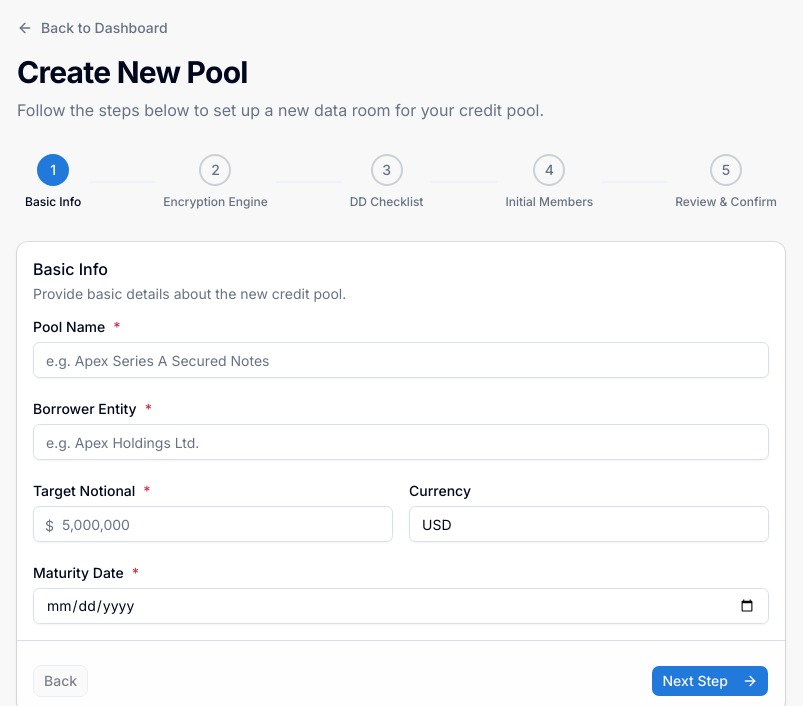
it: NewPoolPage › shows Confirm & Submit on last step
Type "Test" into the field labelled "Pool Name *". click: [401, 360]
box: [33,342,769,378]
Type "Corp" into the field labelled "Borrower Entity *". click: [401, 442]
box: [33,424,769,460]
Type "100" into the number field labelled "Target Notional *". click: [213, 524]
box: [33,506,393,542]
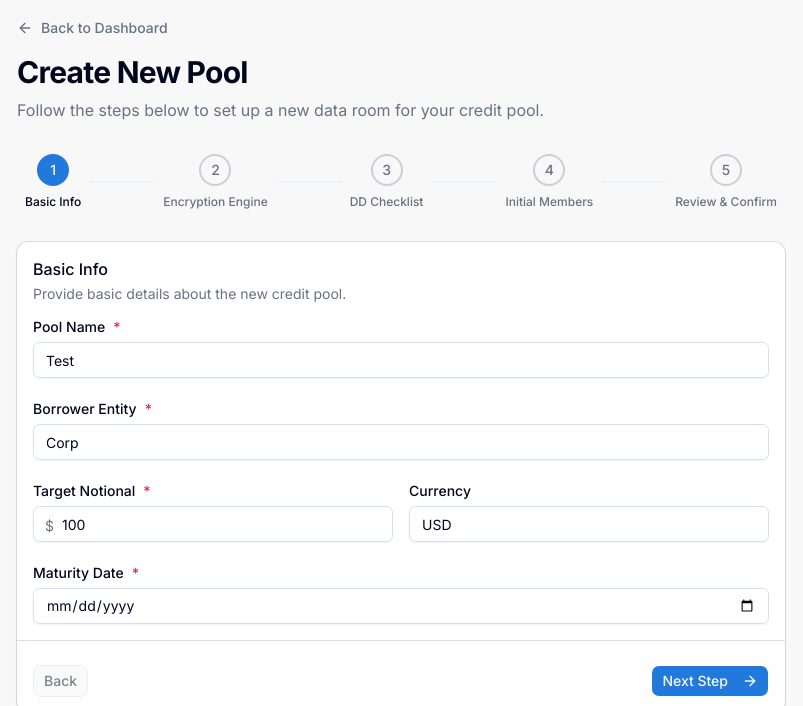
Type "2027-01-01" into the date field labelled "Maturity Date *". click: [401, 606]
box: [33,588,769,624]
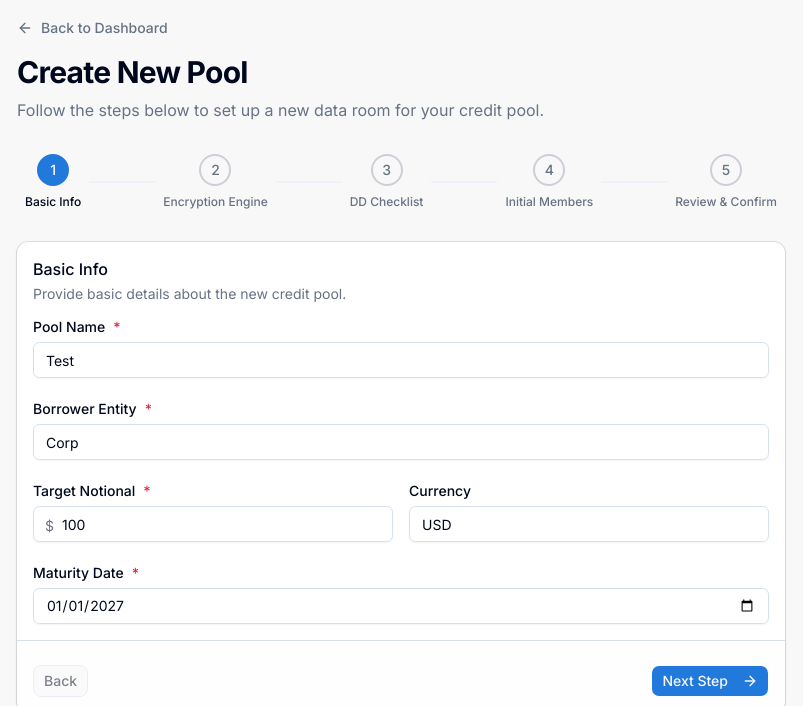
Click the button "Next Step". click: [710, 681]
box: [651,665,769,697]
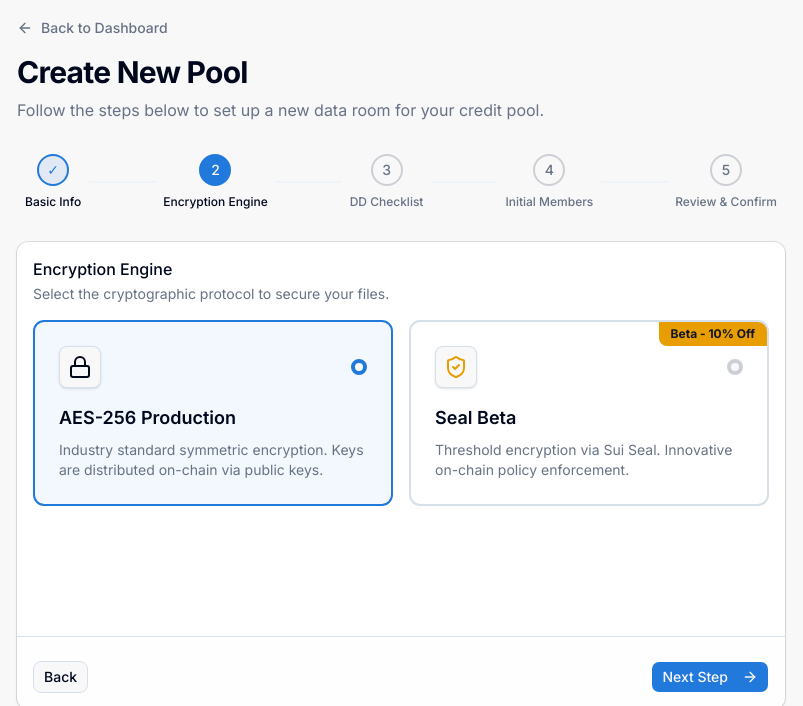
Click the button "Next Step". click: [710, 677]
box: [651,661,769,693]
(page scrolled)
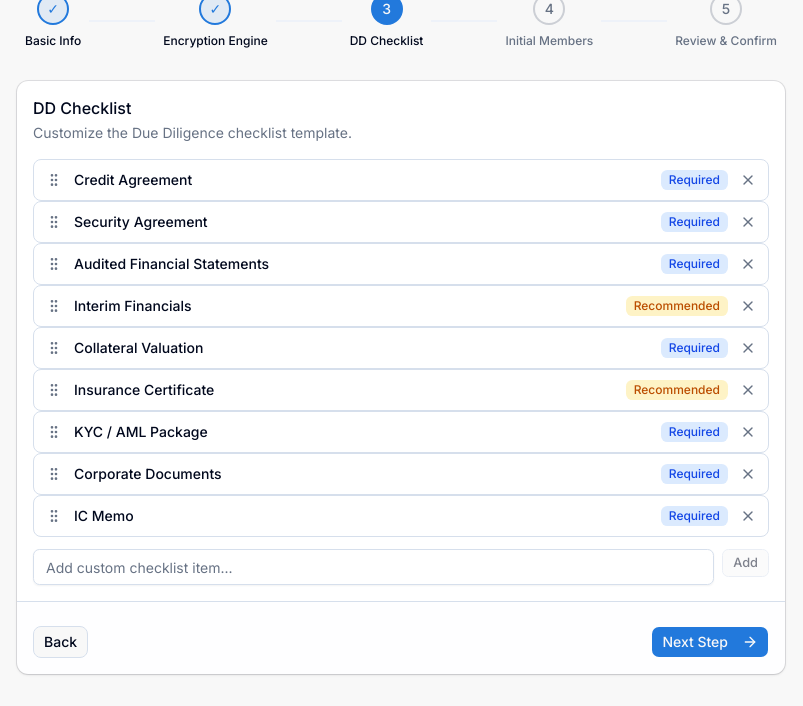
Click the button "Next Step". click: [710, 642]
box: [651,626,769,658]
(page scrolled)
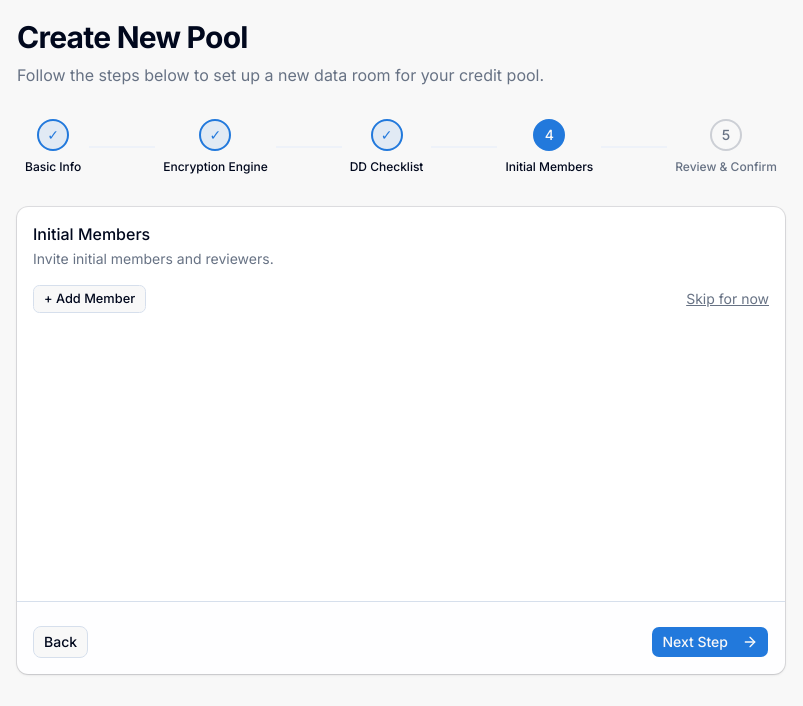
Click the button "Next Step". click: [710, 642]
box: [651,626,769,658]
(page scrolled)
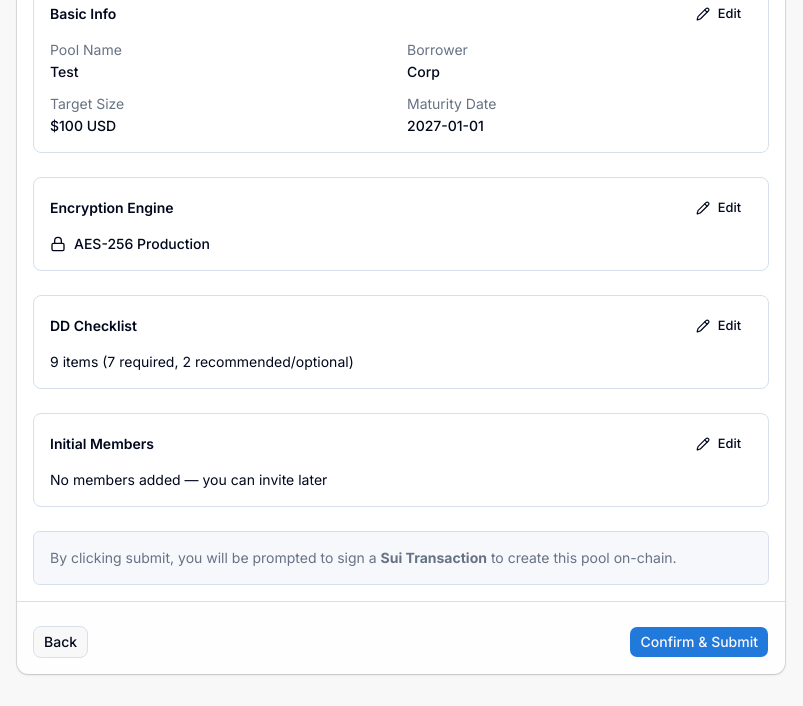
Expected: the button "Confirm & Submit" is shown, [630,626,769,658]
